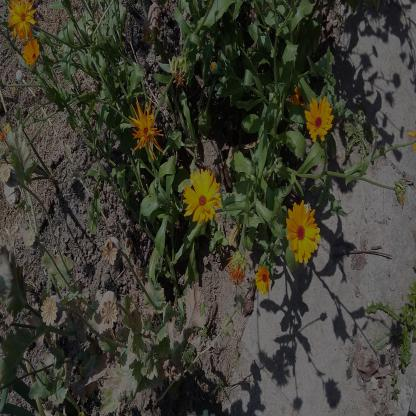marigold: (181, 168, 223, 228), (286, 200, 322, 264), (129, 97, 165, 161), (8, 0, 39, 42), (306, 97, 333, 144), (290, 82, 313, 116), (252, 264, 272, 298), (22, 35, 42, 67)
